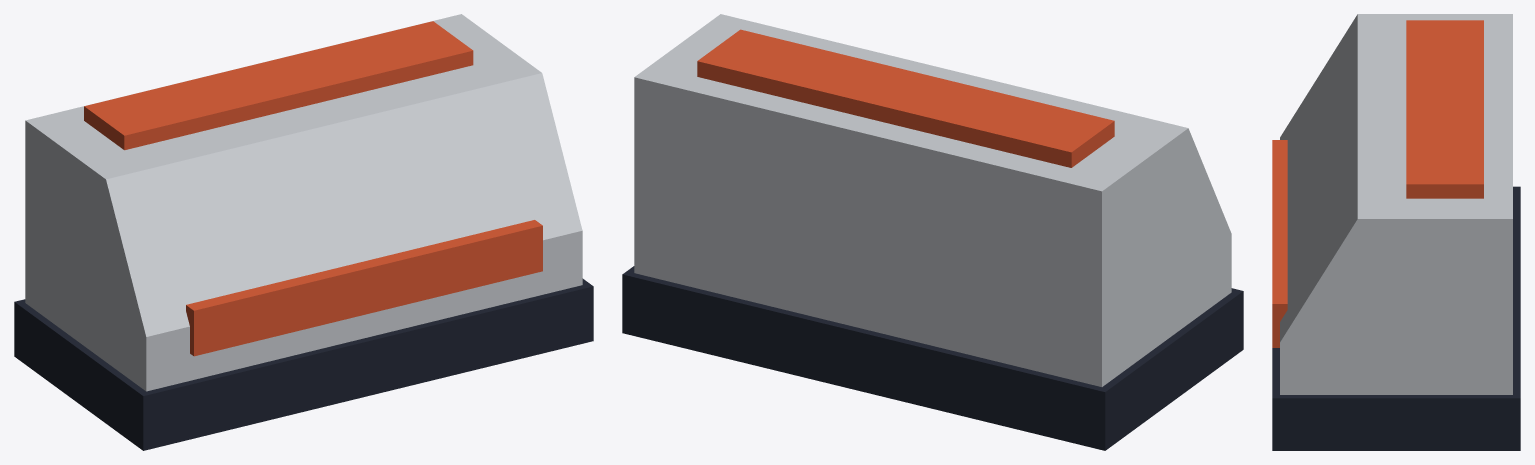
File: barrierB.glb
3 renders of one model, left to right at view 1: azimuth 30°, elevation 25°; view 2: azimuth 150°, elevation 25°; view 3: azimuth 270°, elevation 25°, orthographic. The views are drawn at different scales.
Visible parts, largest first — view 1: moon-barrierB; view 2: moon-barrierB; view 3: moon-barrierB.
Boxes of the visible parts, x1,y1,x2,y2 form: moon-barrierB: [14, 14, 593, 450]; moon-barrierB: [622, 14, 1243, 450]; moon-barrierB: [1272, 14, 1520, 450].
Size of the model in its own units: 0.258 by 0.138 by 0.128.
